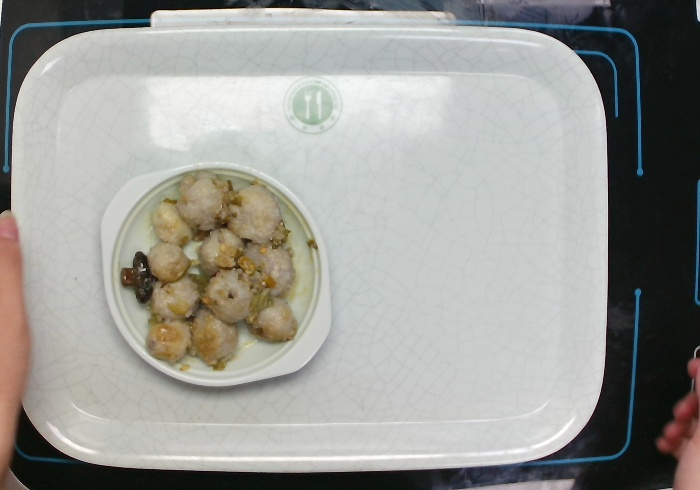JYsf-Shuang_Er_Pan: (95, 163, 336, 393)
